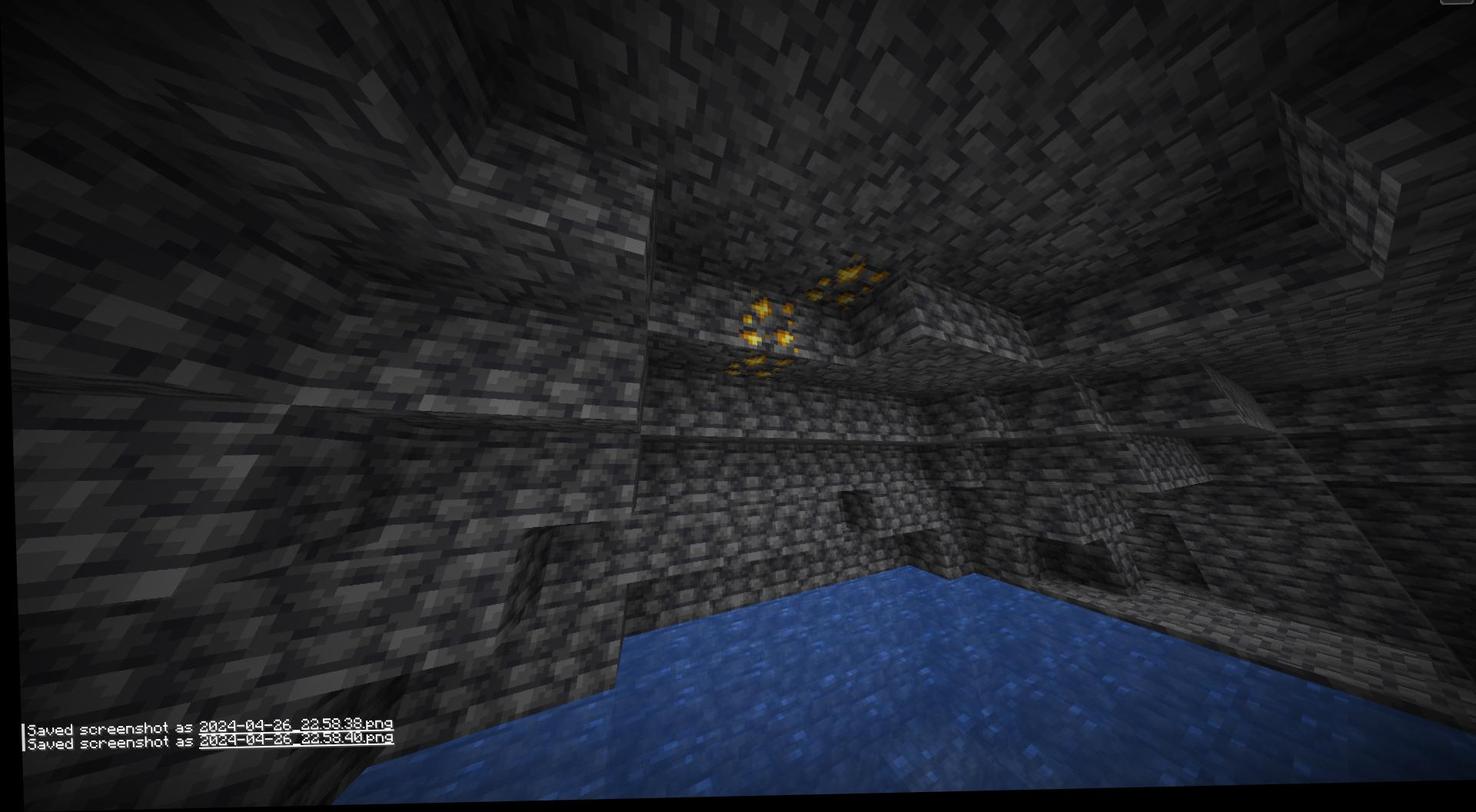gold ore: (800, 260, 883, 315), (732, 290, 798, 354), (718, 358, 789, 383)
